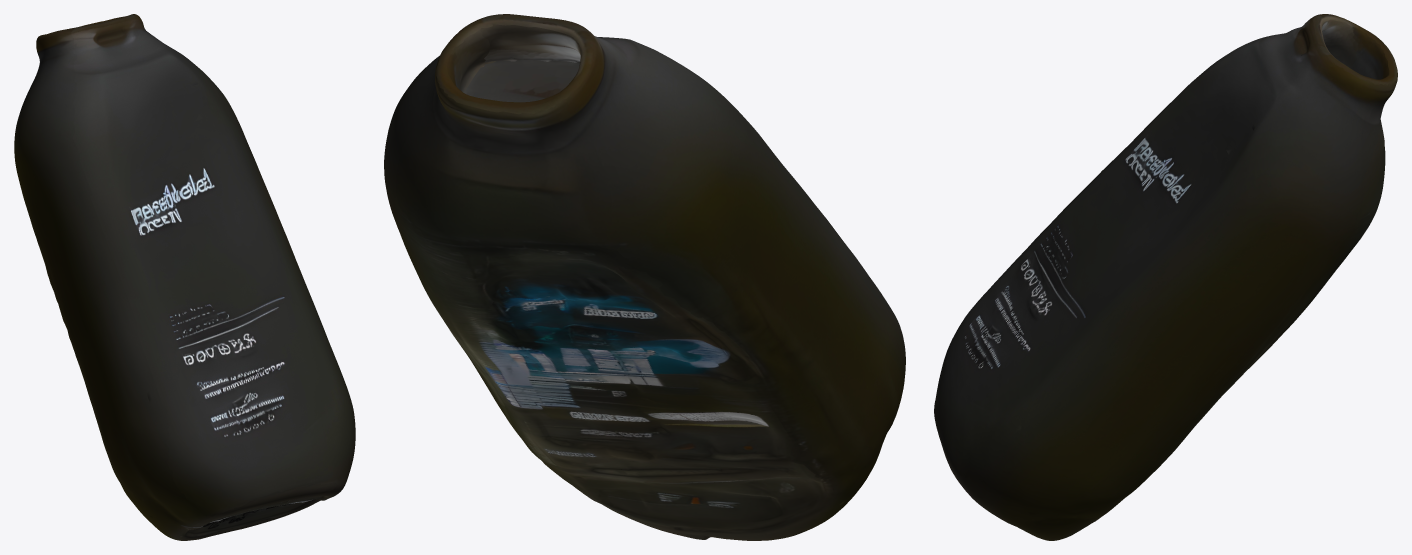
File: iter_1.glb
3 views of the same model, side by side, from view 1: azimuth 30°, elevation 25°; view 2: azimuth 150°, elevation 25°; view 3: azimuth 270°, elevation 25° (orthographic). The views are drawn at different scales.
Visible parts, largest first — view 1: textured_mesh; view 2: textured_mesh; view 3: textured_mesh.
Part boxes in pixels (<box>): textured_mesh: <box>14,14,355,540</box>; textured_mesh: <box>384,14,905,540</box>; textured_mesh: <box>934,14,1397,540</box>.
Size of the model in its own units: 1.11 by 1.99 by 1.74.
1 material, 1 textured.
